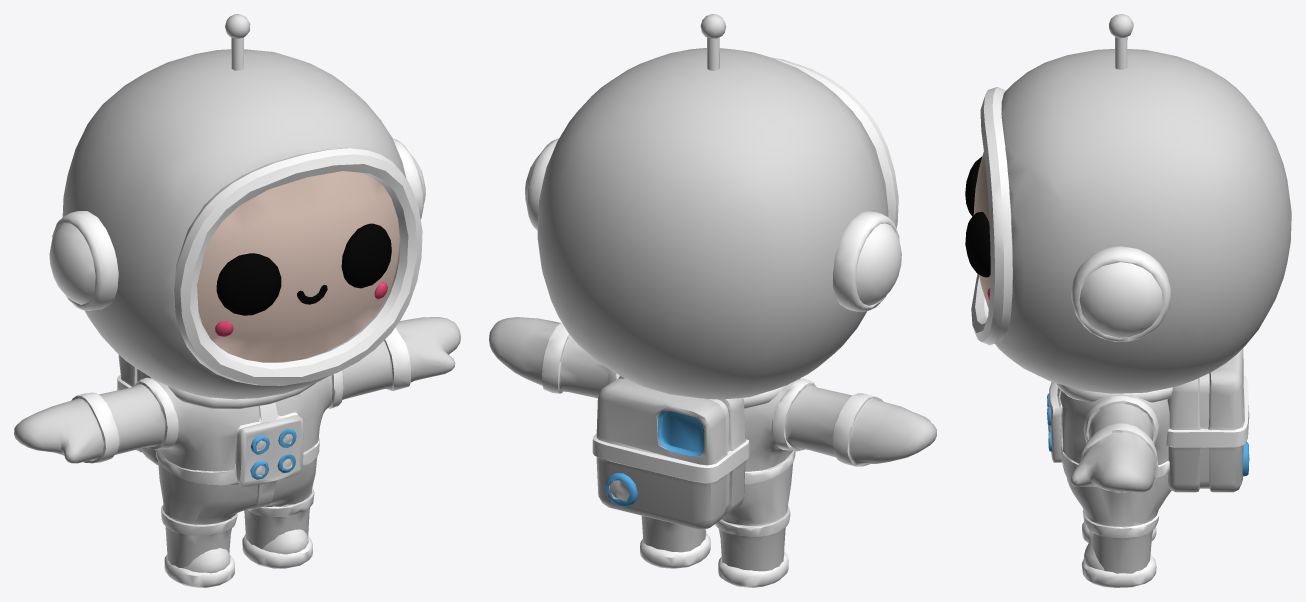
The model's file is AstroBoo.fbx.
The picture shows the model from 3 angles, left to right: view 1: azimuth 30°, elevation 25°; view 2: azimuth 150°, elevation 25°; view 3: azimuth 270°, elevation 25°; orthographic projection.
Visible parts, largest first — view 1: Astroboo; view 2: Astroboo; view 3: Astroboo.
Part boxes in pixels (x1,y1,x2,y2): Astroboo: [14, 14, 460, 587]; Astroboo: [489, 14, 936, 587]; Astroboo: [965, 14, 1291, 587].
Bounding box in the file's own units: 361 × 433 × 235.
